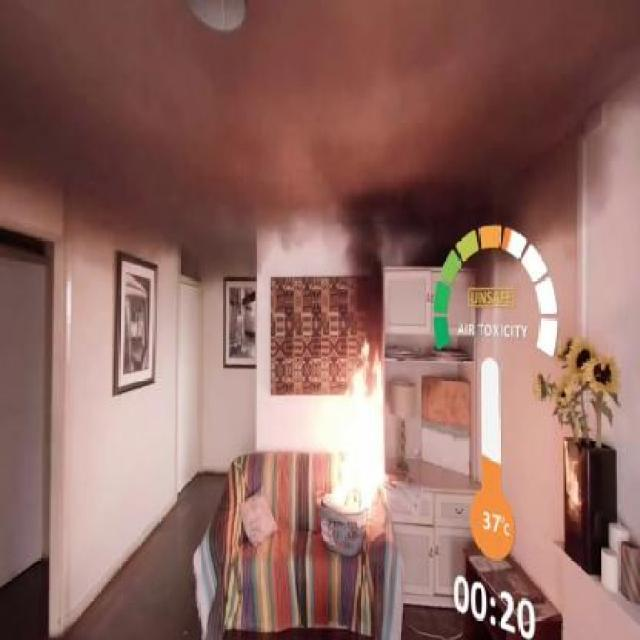fire: (314, 329, 396, 563)
smoke: (294, 106, 434, 300)
